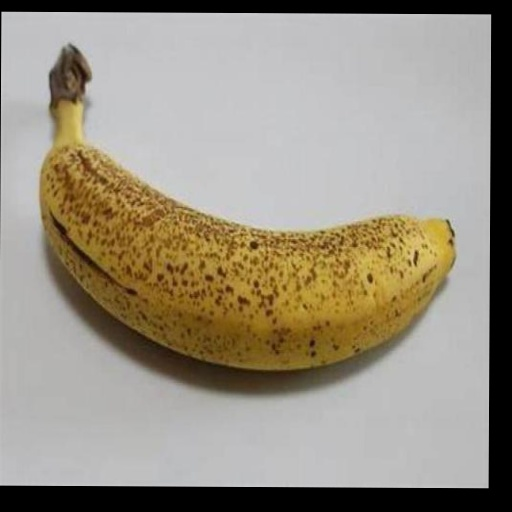fruit: (40, 45, 454, 369)
